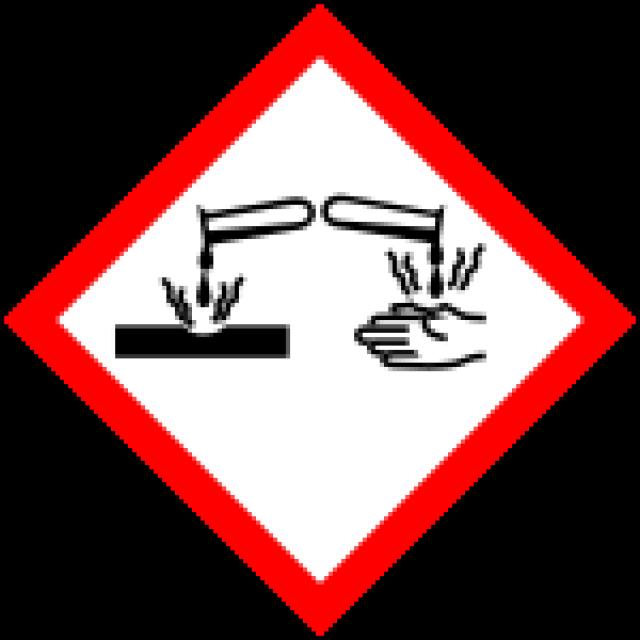GHS05- Corrosive: (4, 4, 640, 640)
